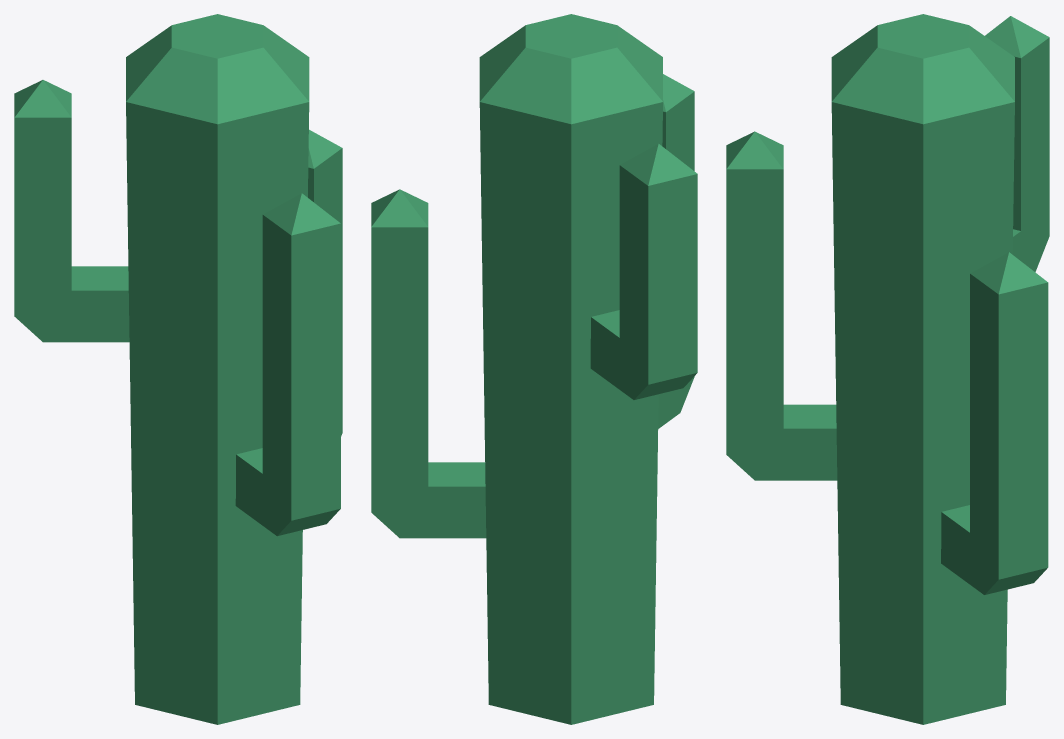
Rendered from cacto.glb.
3 renders of one model, left to right at view 1: azimuth 30°, elevation 25°; view 2: azimuth 150°, elevation 25°; view 3: azimuth 270°, elevation 25°, orthographic.
Parts seen in each view (by area): view 1: modelo; view 2: modelo; view 3: modelo.
Part boxes in pixels (<box>): modelo: <box>14,14,342,724</box>; modelo: <box>371,14,697,724</box>; modelo: <box>726,14,1049,724</box>.
Bounding box in the file's own units: 0.8321 × 1.58 × 0.7121.
